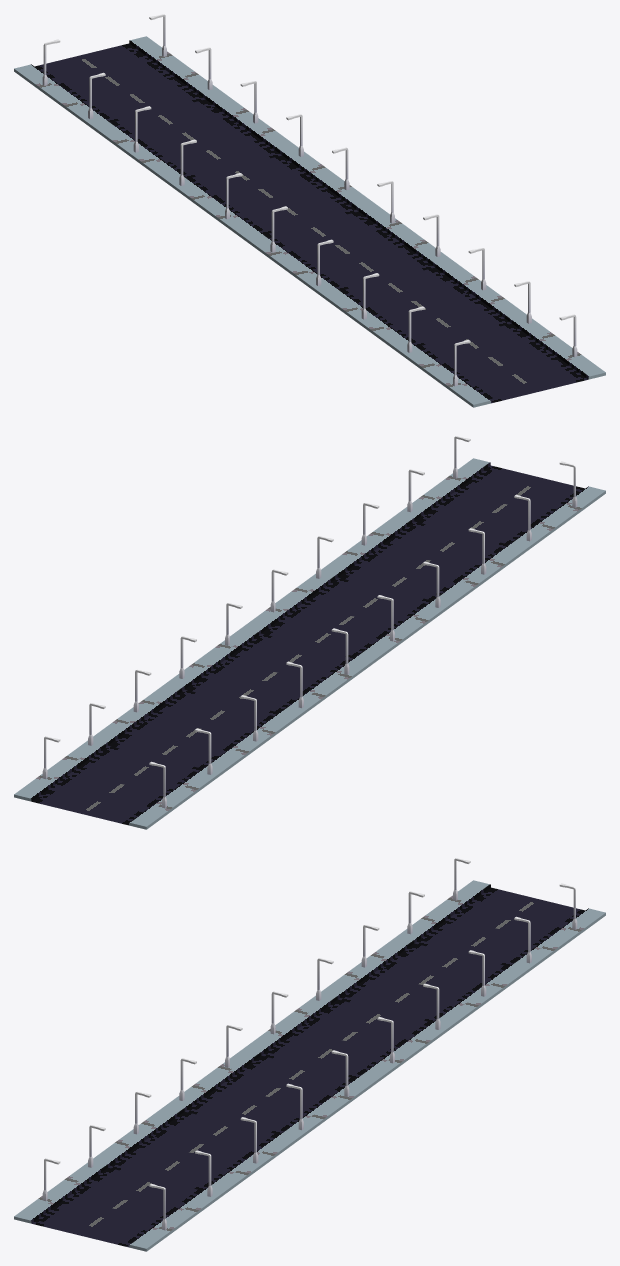
Rendered from FinalPrototypeRoad.fbx.
The picture shows the model from 3 angles, top to bottom: view 1: azimuth 30°, elevation 25°; view 2: azimuth 150°, elevation 25°; view 3: azimuth 330°, elevation 25°; orthographic projection.
Visible parts, largest first — view 1: Road, light-square, light-square-colonly.002; view 2: Road, light-square, light-square-colonly.002; view 3: Road, light-square-colonly.002, light-square.
Boxes of the visible parts, box(x1,y1,x2,y2) form: Road: box(14, 36, 605, 407); light-square: box(42, 39, 470, 386); light-square-colonly.002: box(149, 14, 577, 357); Road: box(14, 458, 605, 829); light-square: box(149, 461, 577, 808); light-square-colonly.002: box(42, 436, 470, 779); Road: box(14, 880, 605, 1251); light-square-colonly.002: box(149, 883, 577, 1230); light-square: box(42, 858, 470, 1201).
Bounding box in the file's own units: 200 × 64 × 1200.
